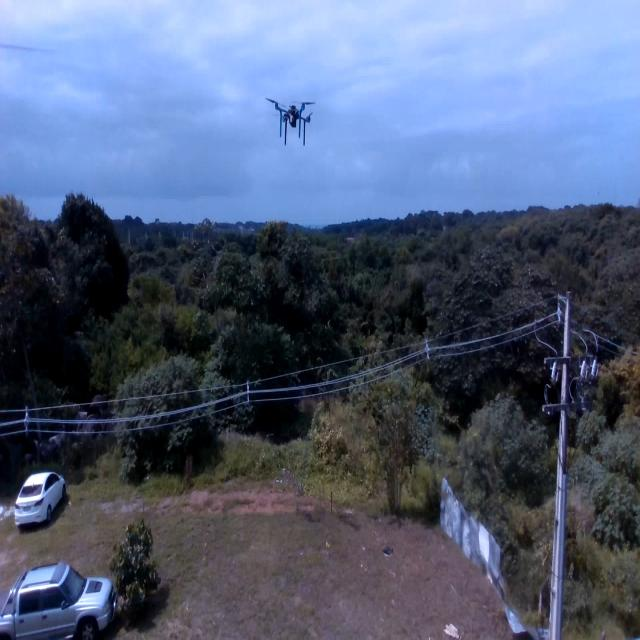-uav-: (260, 83, 322, 158)
